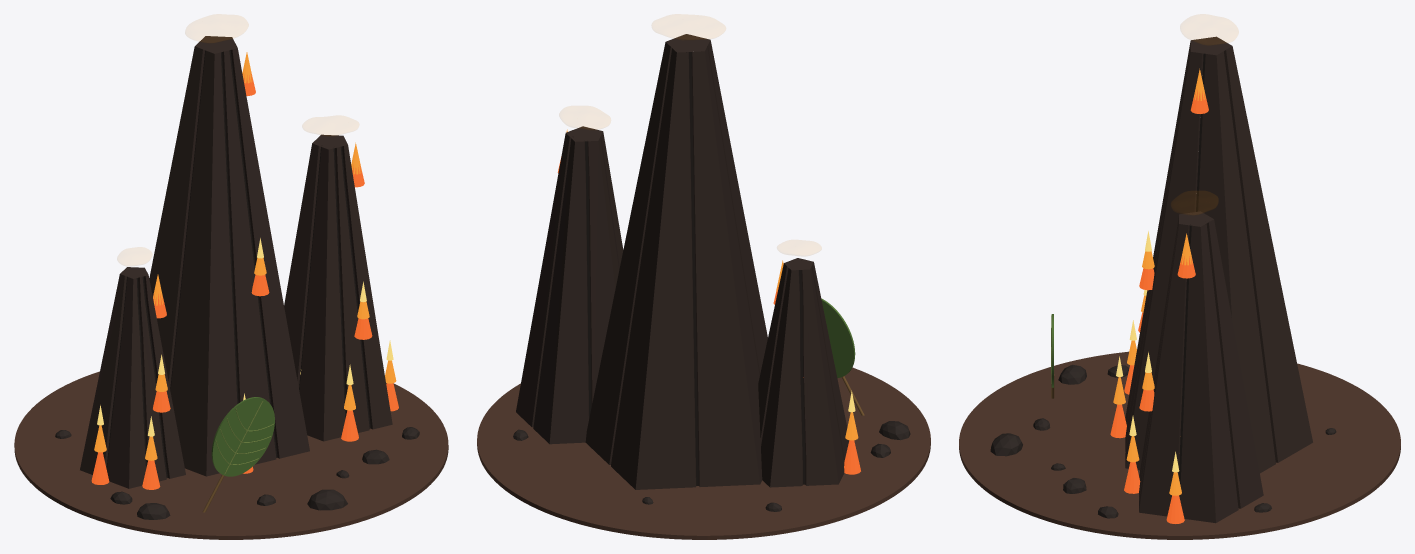
File: xy_huoyanshan.glb
3 renders of one model, left to right at view 1: azimuth 30°, elevation 25°; view 2: azimuth 150°, elevation 25°; view 3: azimuth 270°, elevation 25°, orthographic. The views are drawn at different scales.
Parts seen in each view (by area): view 1: xy_huoyanshan; view 2: xy_huoyanshan; view 3: xy_huoyanshan.
Part boxes in pixels (x1,y1,x2,y2): xy_huoyanshan: (14,36,448,539); xy_huoyanshan: (477,34,930,539); xy_huoyanshan: (959,36,1400,539).
Size of the model in its own units: 22 by 23.12 by 22.
